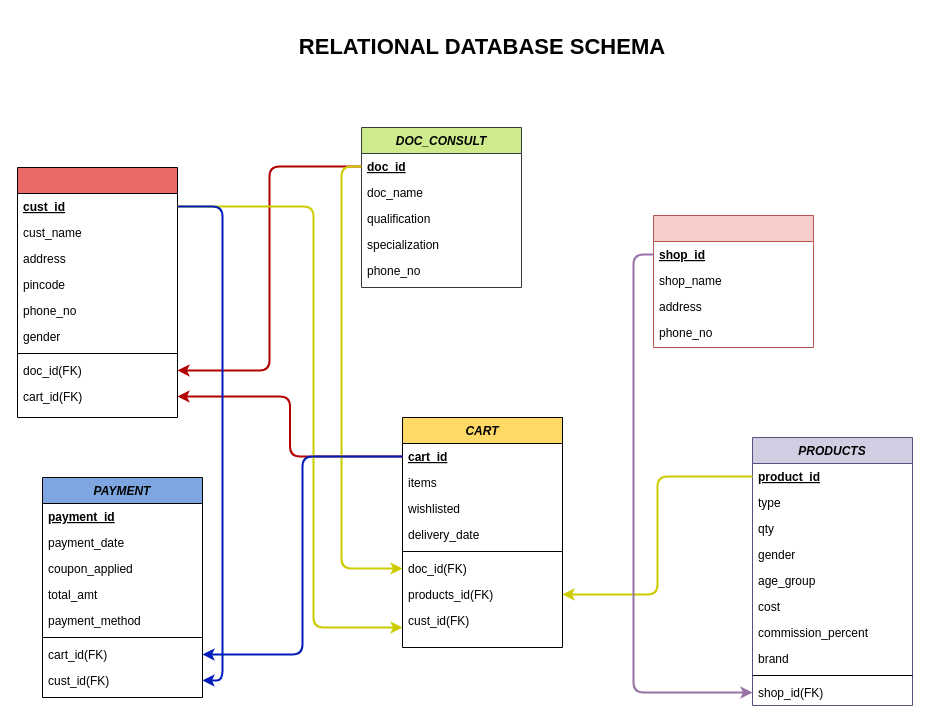
Image size: 930x725. Some labels were removed from this diagram. Here are the shapes that lost their labels. From the top down, the box of each, then its label:
(16, 166, 178, 418): CUSTOMER
(652, 214, 814, 348): MEDICINE_SHOP
